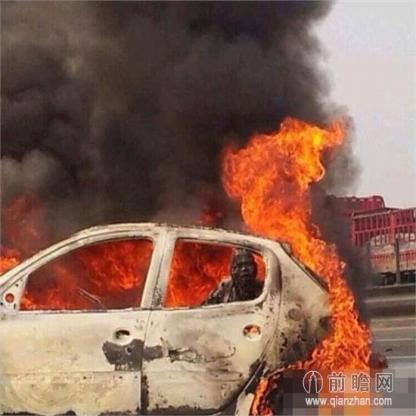fire: (223, 118, 326, 194), (168, 240, 235, 308), (82, 238, 148, 303), (329, 272, 370, 368), (243, 195, 314, 238), (25, 270, 83, 310), (295, 236, 335, 272), (307, 343, 335, 368), (0, 248, 21, 270)
